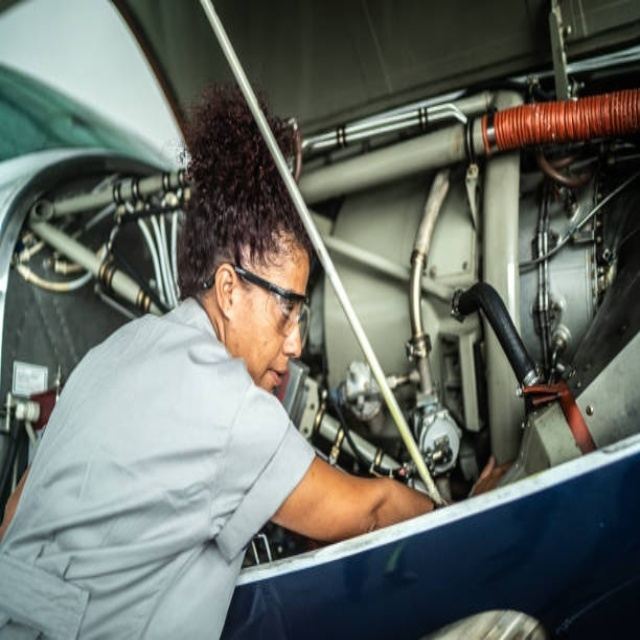Gafas: (205, 264, 311, 348)
Sin_mascara: (256, 356, 293, 394)
